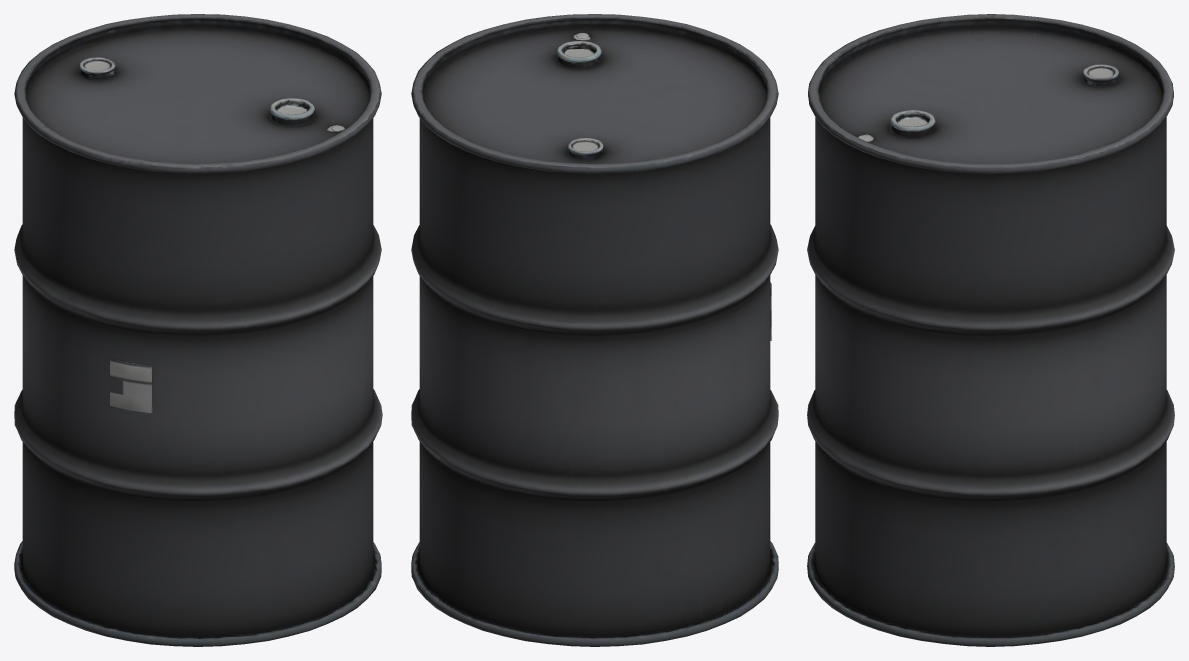
The model's file is selected.glb.
3 renders of one model, left to right at view 1: azimuth 30°, elevation 25°; view 2: azimuth 150°, elevation 25°; view 3: azimuth 270°, elevation 25°, orthographic.
Parts seen in each view (by area): view 1: tripo_node_798951fc-06da-48d5-9002-a9128d507068; view 2: tripo_node_798951fc-06da-48d5-9002-a9128d507068; view 3: tripo_node_798951fc-06da-48d5-9002-a9128d507068.
Boxes of the visible parts, left/top/right/bottom form: tripo_node_798951fc-06da-48d5-9002-a9128d507068: left=14, top=14, right=382, bottom=646; tripo_node_798951fc-06da-48d5-9002-a9128d507068: left=411, top=14, right=778, bottom=646; tripo_node_798951fc-06da-48d5-9002-a9128d507068: left=807, top=14, right=1174, bottom=646.
Size of the model in its own units: 0.6934 by 0.998 by 0.6934.
Materials: 1 (1 with a texture image).
